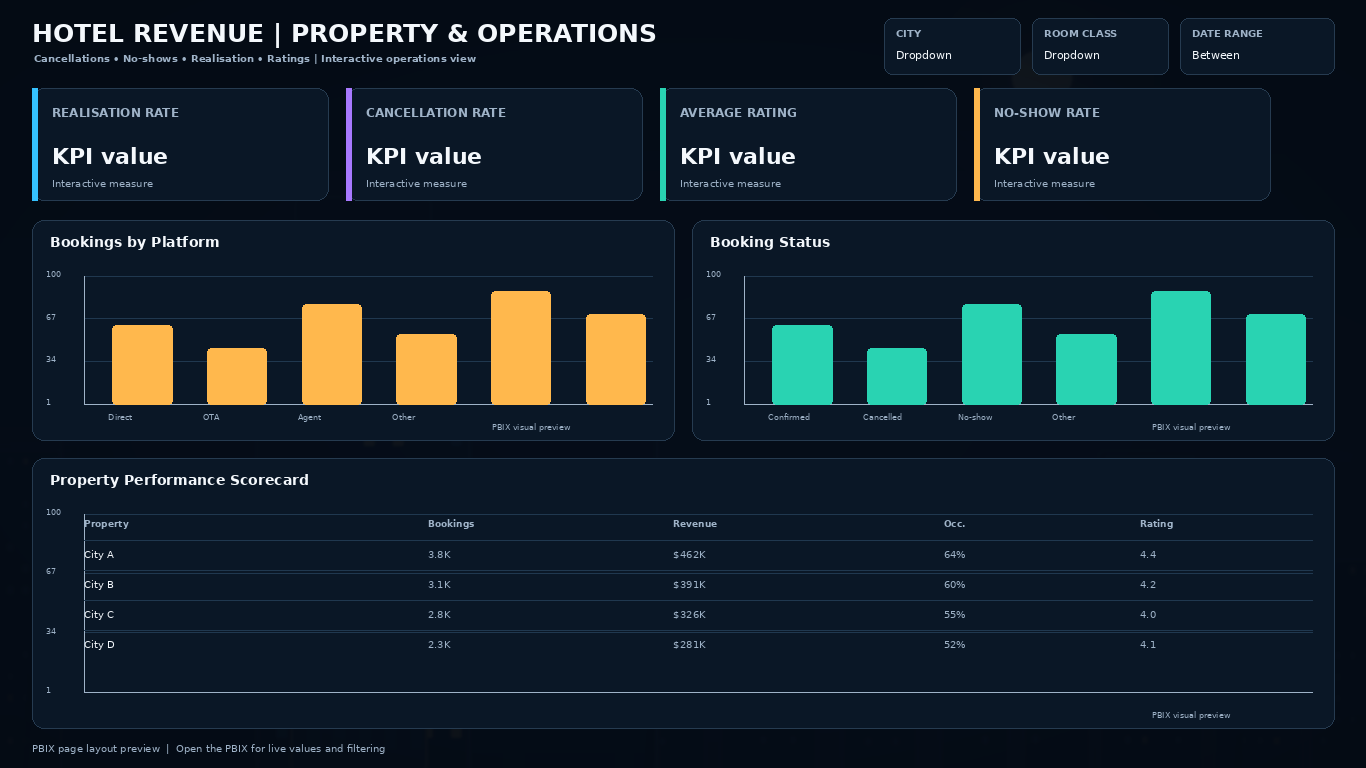

The page's visual inventory and layout, read from the dashboard file:
{"tool":"powerbi","page":{"name":"Property & Operations","canvas":[1366,768],"ordinal":1},"visuals":[{"type":"clusteredBarChart","title":"BOOKINGS BY PLATFORM","fields":{"Category":["fact_bookings.booking_platform"],"Y":["Measures (2).Total Booking"]},"box":[32,220,642,220],"z":1000},{"type":"barChart","title":"BOOKING STATUS | VOLUME","fields":{"Category":["fact_bookings.booking_status"],"Y":["Measures (2).Total Booking"]},"box":[692,220,642,220],"z":1000},{"type":"tableEx","title":"PROPERTY PERFORMANCE DETAIL","fields":{"Values":["dim_hotels.property_name","dim_hotels.city","dim_rooms.room_class","Measures (2).Total Booking","Measures (2).Revenue","Measures (2).Occupancy %","Measures (2).ADR","Measures (2).Realisation %"]},"box":[32,458,1302,270],"z":1000},{"type":"cardVisual","fields":{"Data":["Measures (2).Realisation %"]},"box":[32,88,296,112],"z":2000},{"type":"cardVisual","fields":{"Data":["Measures (2).Cancelled %"]},"box":[346,88,296,112],"z":2000},{"type":"cardVisual","fields":{"Data":["Measures (2).Average Rating"]},"box":[660,88,296,112],"z":2000},{"type":"cardVisual","fields":{"Data":["Measures (2).No Show rate %"]},"box":[974,88,296,112],"z":2000},{"type":"slicer","fields":{"Values":["dim_hotels.city"]},"box":[884,18,136,56],"z":3000},{"type":"slicer","fields":{"Values":["dim_rooms.room_class"]},"box":[1032,18,136,56],"z":3000},{"type":"slicer","fields":{"Values":["dim_date.date"]},"box":[1180,18,154,56],"z":3000},{"type":"textbox","box":[32,18,700,36],"z":4000},{"type":"textbox","box":[34,52,760,20],"z":4000},{"type":"textbox","box":[32,742,1290,16],"z":4000}]}

Visuals, with their boxes in screenshot pixels (x1, y1, x2, y2), scaled from the page's 1366x768 canvas onto the 1366x768 screenshot:
"BOOKINGS BY PLATFORM" clusteredBarChart: bbox=(32, 220, 674, 440)
"BOOKING STATUS | VOLUME" barChart: bbox=(692, 220, 1334, 440)
"PROPERTY PERFORMANCE DETAIL" tableEx: bbox=(32, 458, 1334, 728)
cardVisual - Measures (2).Realisation %: bbox=(32, 88, 328, 200)
cardVisual - Measures (2).Cancelled %: bbox=(346, 88, 642, 200)
cardVisual - Measures (2).Average Rating: bbox=(660, 88, 956, 200)
cardVisual - Measures (2).No Show rate %: bbox=(974, 88, 1270, 200)
slicer - dim_hotels.city: bbox=(884, 18, 1020, 74)
slicer - dim_rooms.room_class: bbox=(1032, 18, 1168, 74)
slicer - dim_date.date: bbox=(1180, 18, 1334, 74)
textbox: bbox=(32, 18, 732, 54)
textbox: bbox=(34, 52, 794, 72)
textbox: bbox=(32, 742, 1322, 758)
